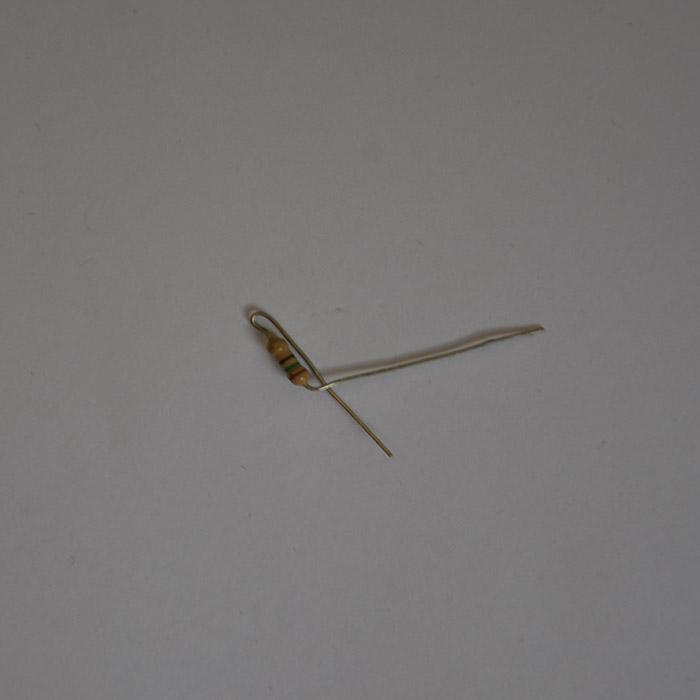resistor: (265, 332, 309, 388)
